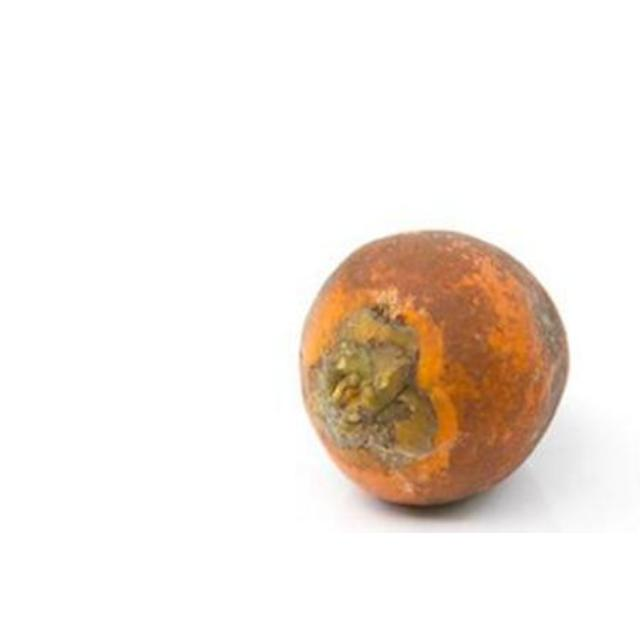good: (302, 232, 567, 504)
